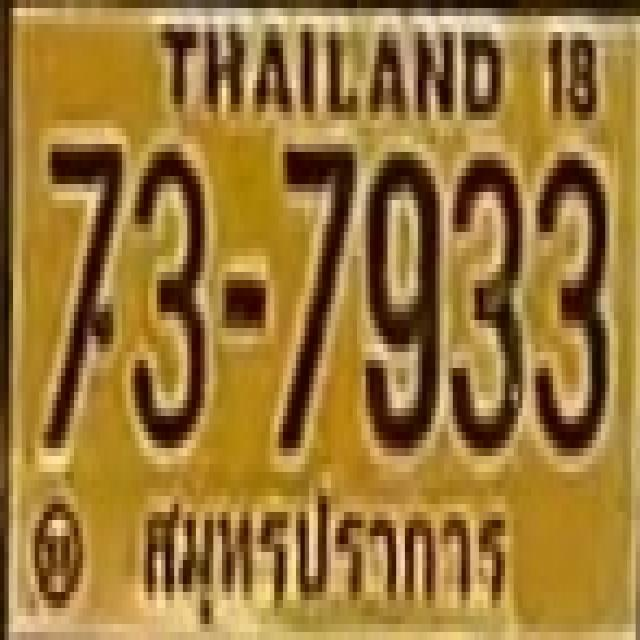3: (531, 144, 605, 448), (449, 152, 518, 448), (131, 144, 200, 440)
7: (278, 136, 352, 448), (44, 136, 118, 440)
9: (362, 144, 436, 440)
SPK: (135, 484, 522, 626)
